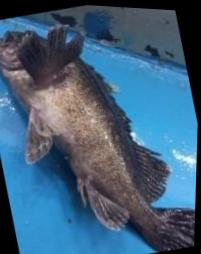fish: (0, 23, 196, 249)
